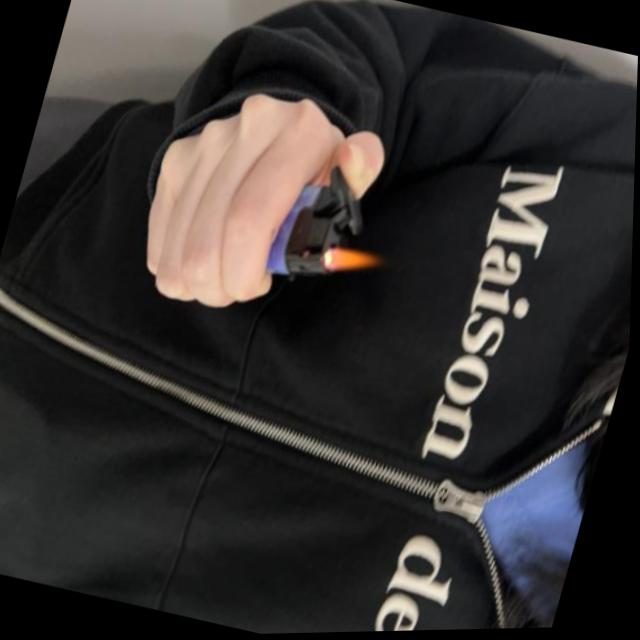Fire: (315, 242, 381, 286)
